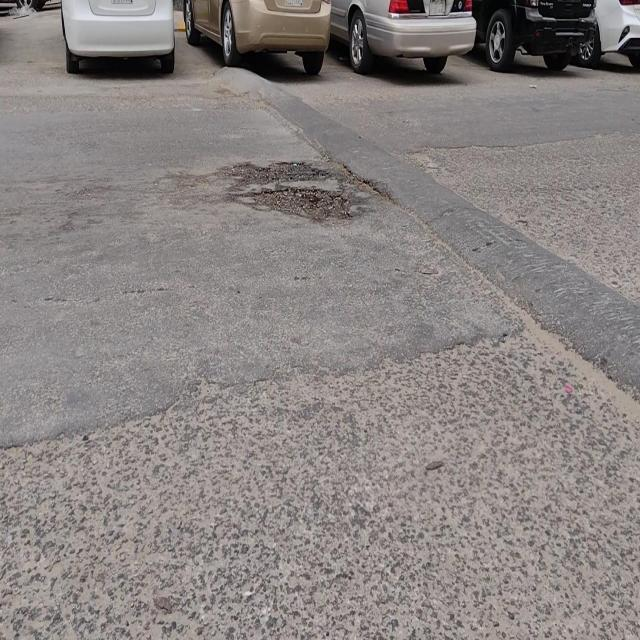Potholes: (233, 161, 347, 222)
